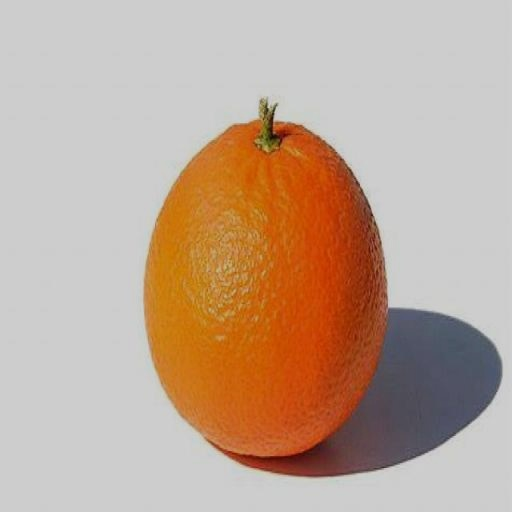fruit: (145, 102, 387, 455)
